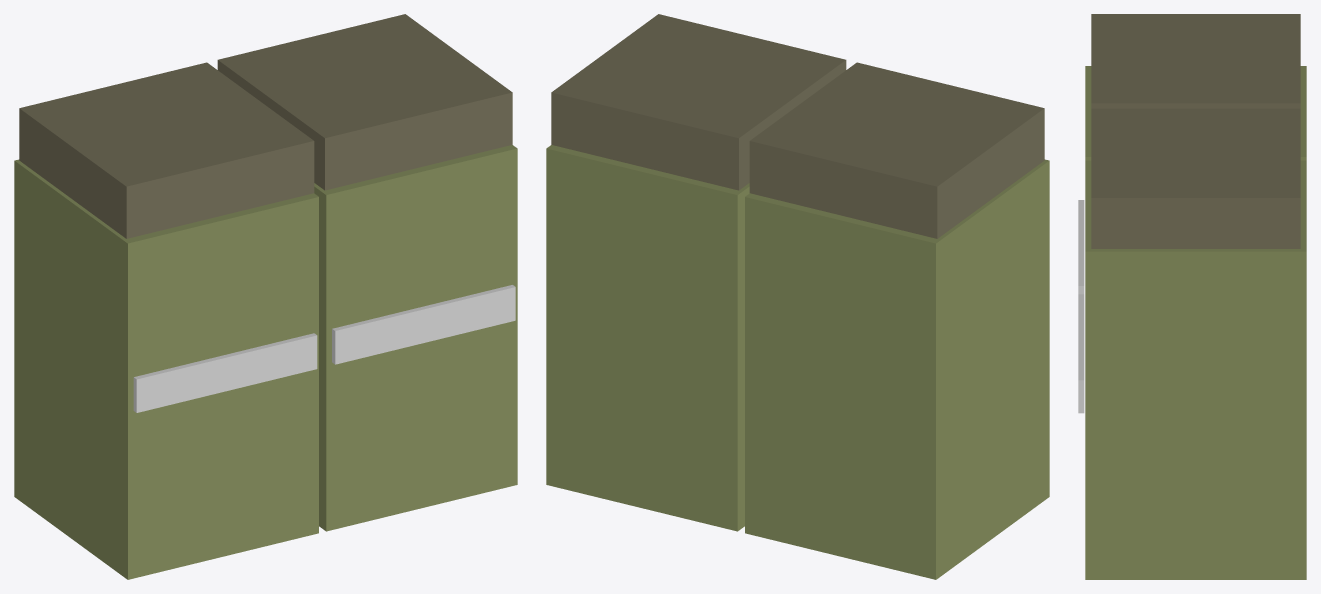
File: SM_HescoCorto2_v3_RemateSacos_e0_Sano_LOD1.fbx
3 renders of one model, left to right at view 1: azimuth 30°, elevation 25°; view 2: azimuth 150°, elevation 25°; view 3: azimuth 270°, elevation 25°, orthographic. The views are drawn at different scales.
Parts seen in each view (by area): view 1: SM_hesco_piezas_v72_LOD1; view 2: SM_hesco_piezas_v72_LOD1; view 3: SM_hesco_piezas_v72_LOD1.
Boxes of the visible parts, x1,y1,x2,y2 form: SM_hesco_piezas_v72_LOD1: [14, 14, 517, 579]; SM_hesco_piezas_v72_LOD1: [546, 14, 1049, 579]; SM_hesco_piezas_v72_LOD1: [1078, 14, 1306, 579].
Bounding box in the file's own units: 2.18 × 2.09 × 1.13.
